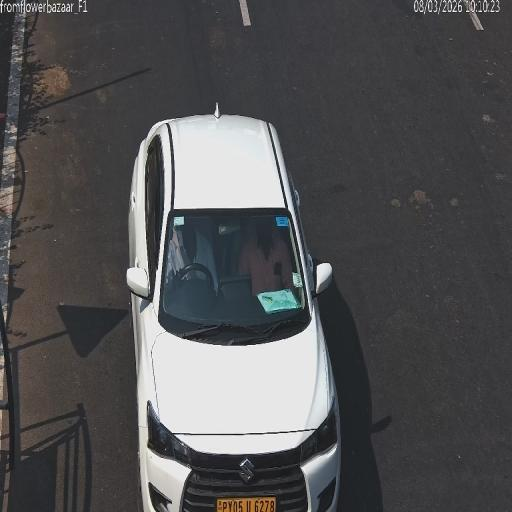person_with_seatbelt: (168, 211, 196, 285)
